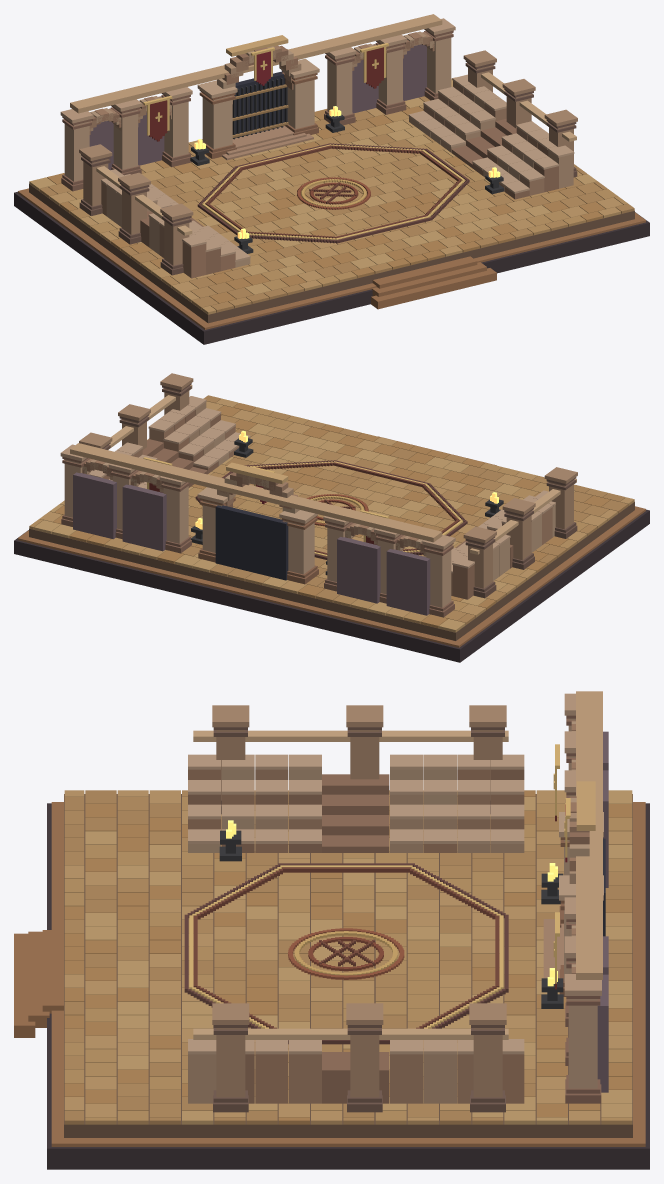
File: preview-duel-arena.glb
3 views of the same model, one above another, from view 1: azimuth 30°, elevation 25°; view 2: azimuth 150°, elevation 25°; view 3: azimuth 270°, elevation 25° (orthographic). The views are drawn at different scales.
Parts seen in each view (by area): view 1: Paving, Stands, Grandstand, Miniature_Plinth, Champion_Gate, Ring_Mosaic, Bedrock, Miniature_Entry, Gate_Grille, Crimson_Standards, Stairs, Gate_Stairs (+1 smaller); view 2: Paving, Grandstand, Stands, Miniature_Plinth, Bedrock, Champion_Gate, Gate_Grille, Ring_Mosaic, Stairs, Braziers; view 3: Paving, Stands, Miniature_Plinth, Grandstand, Bedrock, Ring_Mosaic, Stairs, Miniature_Entry, Champion_Gate, Braziers, Gate_Stairs, Crimson_Standards.
Part boxes in pixels (box(x1,y1,x2,y2)): Paving: box(29, 77, 634, 314); Stands: box(79, 50, 577, 278); Grandstand: box(60, 14, 455, 191); Miniature_Plinth: box(14, 188, 649, 344); Champion_Gate: box(197, 35, 319, 158); Ring_Mosaic: box(197, 143, 469, 243); Bedrock: box(29, 184, 634, 323); Miniature_Entry: box(371, 256, 496, 309); Gate_Grille: box(232, 71, 288, 139); Crimson_Standards: box(143, 43, 388, 141); Stairs: box(140, 118, 516, 247); Gate_Stairs: box(222, 126, 313, 160); Paving: box(29, 395, 634, 632); Grandstand: box(60, 443, 455, 617); Stands: box(79, 373, 577, 599); Miniature_Plinth: box(14, 506, 649, 662); Bedrock: box(29, 501, 634, 640); Champion_Gate: box(197, 462, 318, 584); Gate_Grille: box(215, 505, 288, 580); Ring_Mosaic: box(195, 460, 467, 559); Stairs: box(142, 439, 513, 568); Braziers: box(191, 438, 503, 575); Paving: box(64, 790, 632, 1124); Stands: box(188, 705, 524, 1112); Miniature_Plinth: box(47, 802, 649, 1169); Grandstand: box(564, 691, 608, 1103); Bedrock: box(64, 794, 632, 1137); Ring_Mosaic: box(184, 863, 508, 1044); Stairs: box(322, 774, 389, 1103); Miniature_Entry: box(14, 930, 63, 1037); Champion_Gate: box(559, 781, 603, 996); Braziers: box(219, 830, 563, 1008); Gate_Stairs: box(543, 919, 563, 978); Crimson_Standards: box(553, 744, 570, 989).
Bounding box in the file's own units: 9.14 × 2.42 × 7.11.
